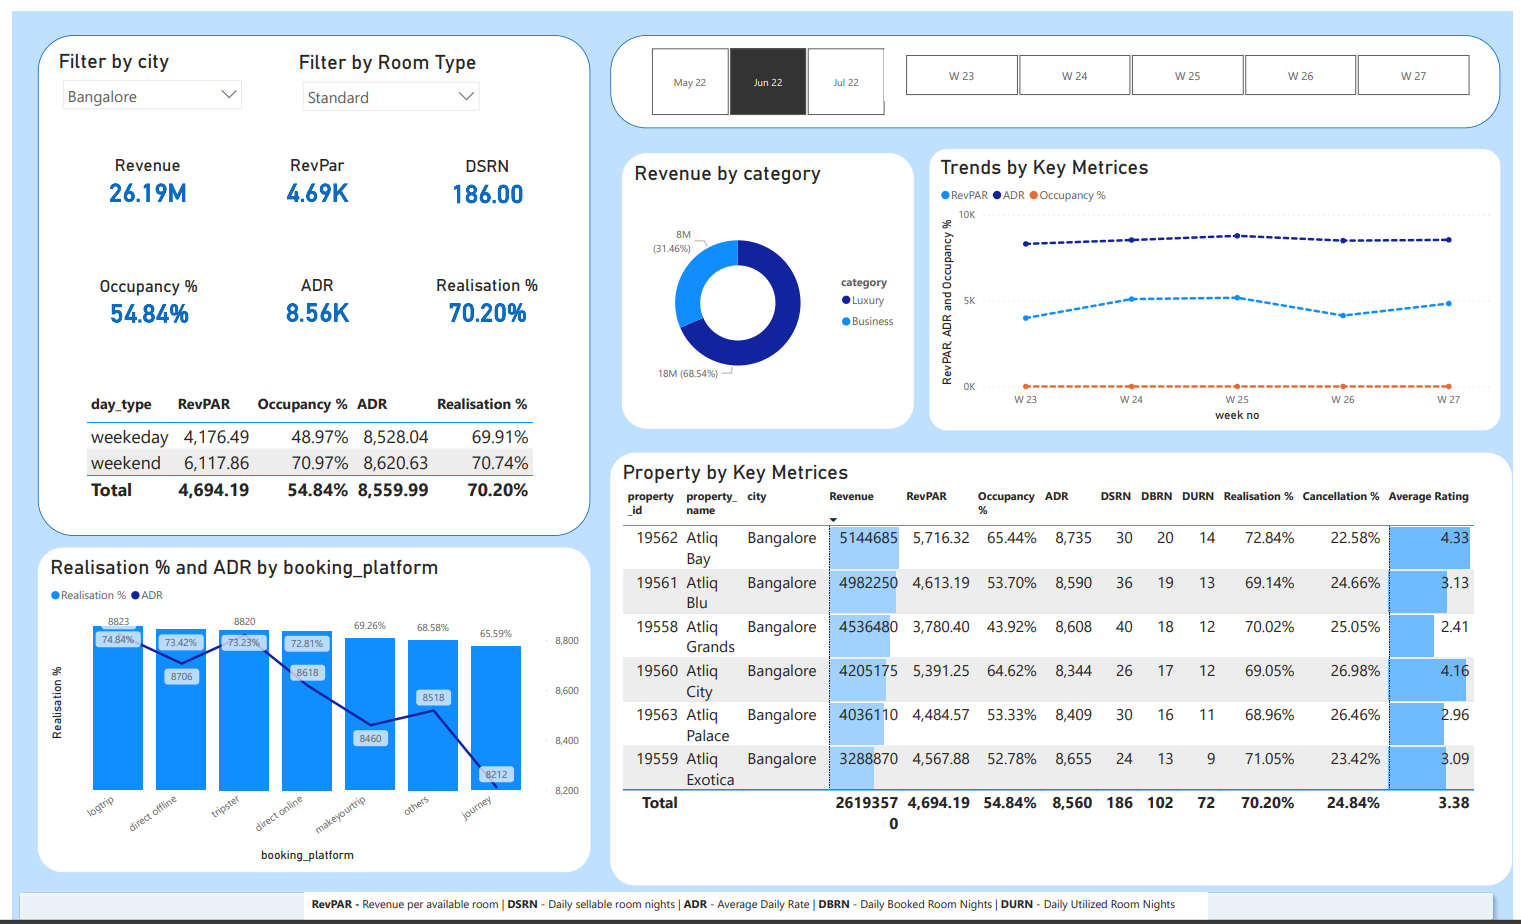

The page's visual inventory and layout, read from the dashboard file:
{"tool":"powerbi","page":{"name":"Page 1","canvas":[1800,1100],"ordinal":0},"visuals":[{"type":"shape","box":[718.3,29.1,1068,111.4],"z":1000},{"type":"shape","box":[30.9,29.1,663.4,601.7],"z":2000},{"type":"tableEx","title":"Property by Key Metrices","fields":{"Values":["dim_hotels.property_id","dim_hotels.property_name","dim_hotels.city","New_Measures.Revenue","New_Measures.RevPAR","New_Measures.Occupancy %","New_Measures.ADR","New_Measures.DSRN","New_Measures.DBRN","New_Measures.DURN","New_Measures.Realisation %","New_Measures.Cancellation %"]},"box":[718.3,531.4,1081.7,519.4],"z":3000},{"type":"slicer","title":"Filter by city","fields":{"Values":["dim_hotels.city"]},"box":[51.4,46.3,234.9,94.3],"z":4000},{"type":"slicer","title":"Filter by Room Type","fields":{"Values":["dim_rooms.room_class"]},"box":[339.4,48,231.4,92.6],"z":5000},{"type":"slicer","fields":{"Values":["dim_date.mmm yy"]},"box":[742.3,37.7,329.1,94.3],"z":7000},{"type":"slicer","fields":{"Values":["dim_date.week no"]},"box":[1047.4,46.3,725.1,61.7],"z":8000},{"type":"card","title":"Revenue","fields":{"Values":["New_Measures.Revenue"]},"box":[61.7,173.1,202.3,63.4],"z":9000},{"type":"donutChart","fields":{"Category":["dim_hotels.category"],"Y":["New_Measures.Revenue"]},"box":[732,171.4,349.7,330.9],"z":10000},{"type":"card","title":"RevPar","fields":{"Values":["New_Measures.RevPAR"]},"box":[286.3,173.1,161.1,63.4],"z":11000},{"type":"card","title":"DSRN","fields":{"Values":["New_Measures.DSRN"]},"box":[490.3,174.9,161.1,63.4],"z":12000},{"type":"card","title":"Occupancy %","fields":{"Values":["New_Measures.Occupancy %"]},"box":[84,318.9,161.1,61.7],"z":13000},{"type":"card","title":"ADR","fields":{"Values":["New_Measures.ADR"]},"box":[286.3,317.1,161.1,63.4],"z":14000},{"type":"card","title":"Realisation %","fields":{"Values":["New_Measures.Realisation %"]},"box":[490.3,317.1,161.1,63.4],"z":15000},{"type":"lineChart","title":"Trends by Key Metrices","fields":{"Y":["New_Measures.RevPAR","New_Measures.ADR","New_Measures.Occupancy %"],"Category":["dim_date.week no","dim_date.mmm yy.Variation.Date Hierarchy.Month"]},"box":[1100.6,166.3,685.7,337.7],"z":16000},{"type":"lineStackedColumnComboChart","fields":{"Category":["fact_bookings.booking_platform"],"Y":["New_Measures.Realisation %"],"Y2":["New_Measures.ADR"]},"box":[30.9,644.6,663.4,390.9],"z":17000},{"type":"tableEx","fields":{"Values":["dim_date.day_type","New_Measures.RevPAR","New_Measures.Occupancy %","New_Measures.ADR","New_Measures.Realisation %"]},"box":[84,454.3,555.4,156],"z":18000},{"type":"shape","box":[0,1050.9,1786.3,49.7],"z":18001},{"type":"textbox","box":[351.4,1059.4,1083.4,32.6],"z":18002}]}

Visuals, with their boxes in screenshot pixels (x1, y1, x2, y2), scaled from the page's 1800x1100 canvas onto the 1521x924 screenshot:
shape: detection(607, 24, 1509, 118)
shape: detection(26, 24, 587, 530)
"Property by Key Metrices" tableEx: detection(607, 446, 1520, 883)
"Filter by city" slicer: detection(43, 39, 242, 118)
"Filter by Room Type" slicer: detection(287, 40, 482, 118)
slicer - dim_date.mmm yy: detection(627, 32, 905, 111)
slicer - dim_date.week no: detection(885, 39, 1498, 91)
"Revenue" card: detection(52, 145, 223, 199)
donutChart - dim_hotels.category x New_Measures.Revenue: detection(619, 144, 914, 422)
"RevPar" card: detection(242, 145, 378, 199)
"DSRN" card: detection(414, 147, 550, 200)
"Occupancy %" card: detection(71, 268, 207, 320)
"ADR" card: detection(242, 266, 378, 320)
"Realisation %" card: detection(414, 266, 550, 320)
"Trends by Key Metrices" lineChart: detection(930, 140, 1509, 423)
lineStackedColumnComboChart - fact_bookings.booking_platform x New_Measures.Realisation %: detection(26, 541, 587, 870)
tableEx - dim_date.day_type x New_Measures.RevPAR: detection(71, 382, 540, 513)
shape: detection(0, 883, 1509, 923)
textbox: detection(297, 890, 1212, 917)
